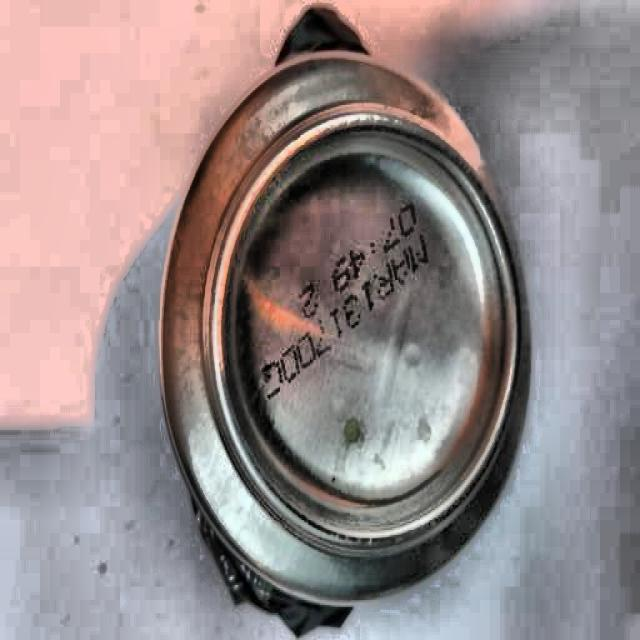metal: (155, 4, 538, 633)
